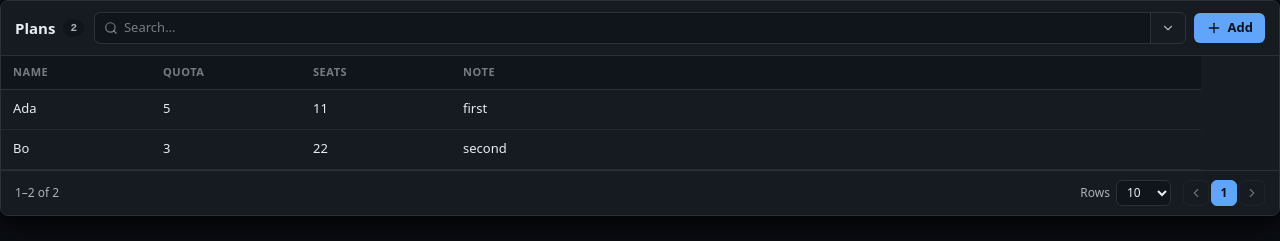
Scenario: focus in a row session › a click on an editable cell starts the session on that cell's editor
The width and height of the screenshot is (1280, 241).
Expected: the text "Ada" is shown, [13, 99, 37, 117]
Click the text "5". click: (226, 110)
box: [151, 90, 301, 130]
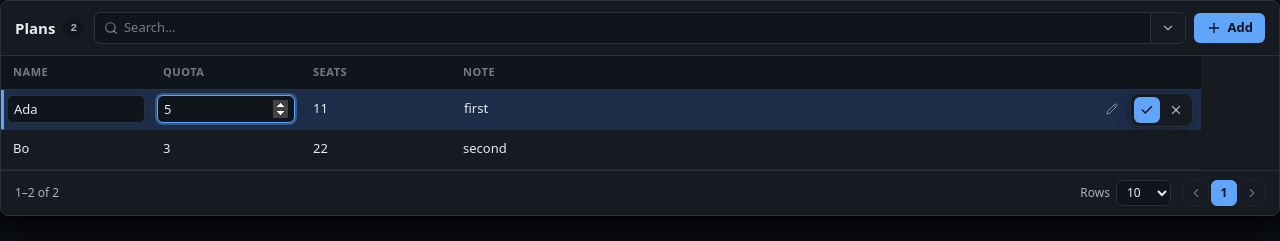
Expected: the row "11 first" is shown, [1, 90, 1201, 130]
Result: the field named "Name" holds "Ada" at [7, 95, 145, 123]
